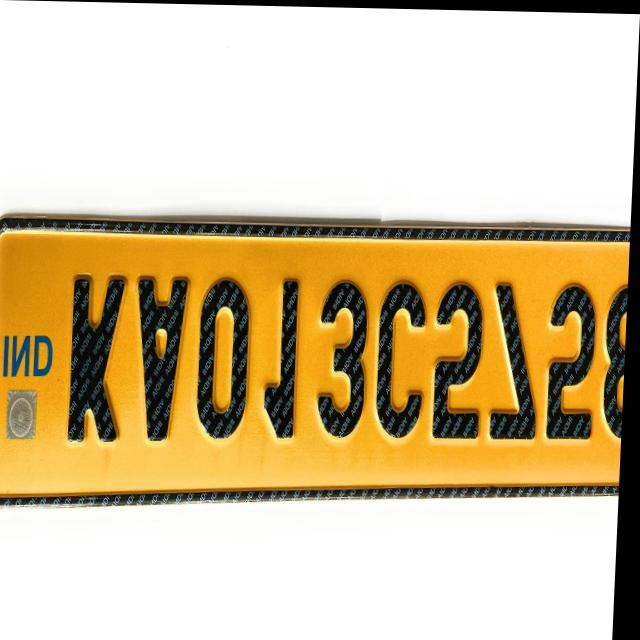0: (197, 273, 260, 444)
1: (261, 267, 310, 442)
3: (314, 271, 379, 441)
5: (430, 273, 495, 446), (545, 270, 607, 444)
7: (488, 269, 547, 447)
8: (603, 276, 631, 438)
a: (132, 276, 196, 449)
c: (375, 271, 436, 437)
k: (59, 263, 135, 456)
